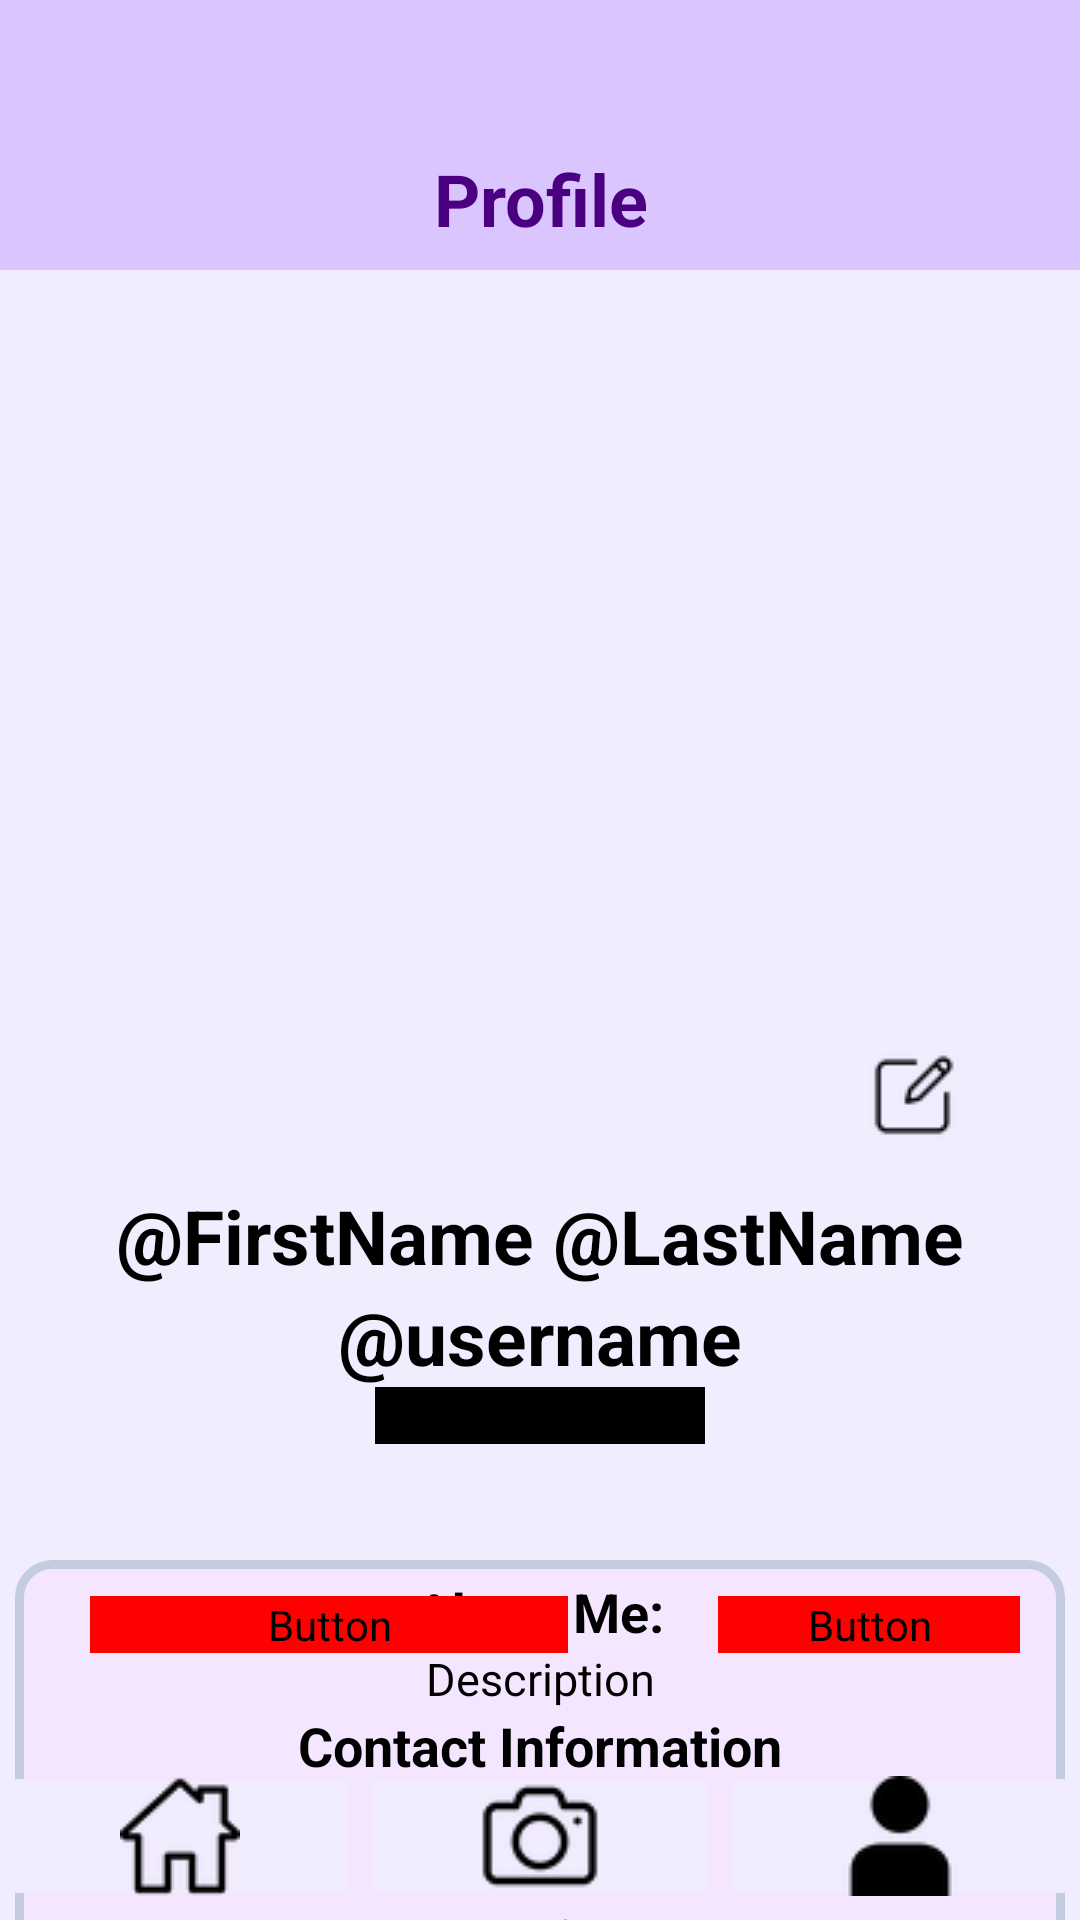

Screen size 1080×1920. Icon name, then its center in pixels as (x=x, y=y):
edit: (x=914, y=1095)
Home: (x=180, y=1836)
profile: (x=900, y=1836)
